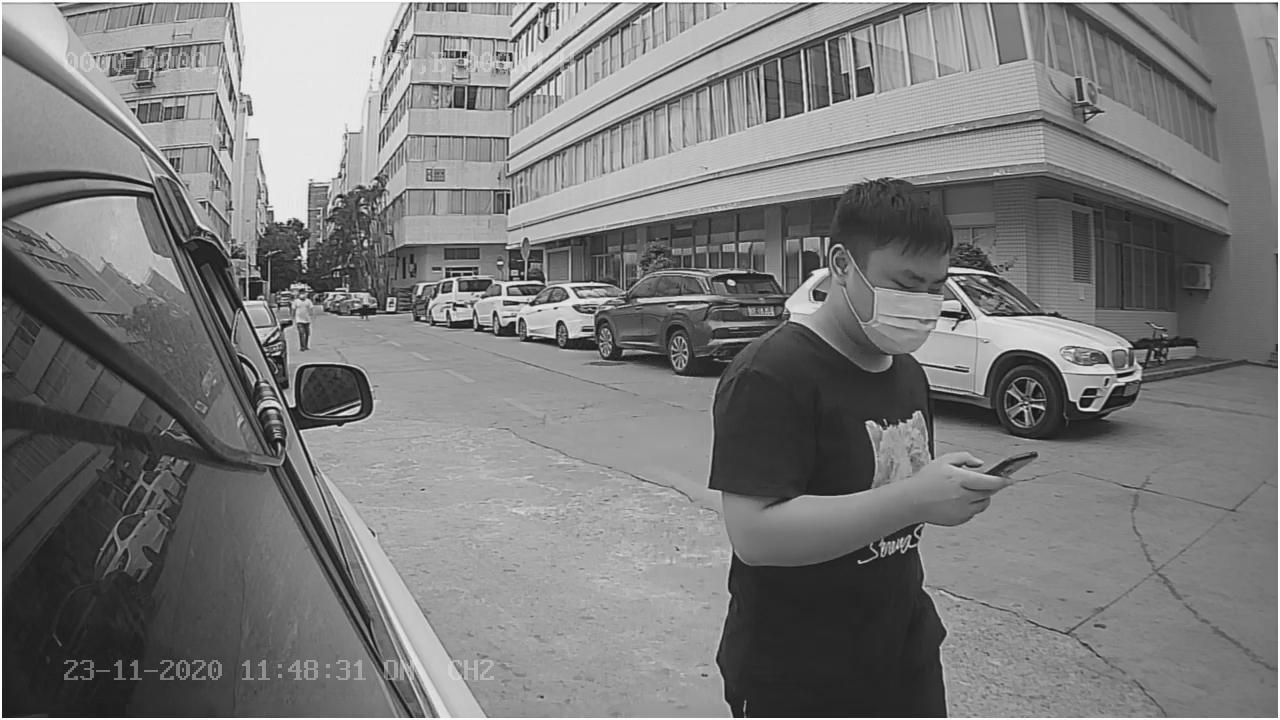person: (703, 174, 1045, 595)
